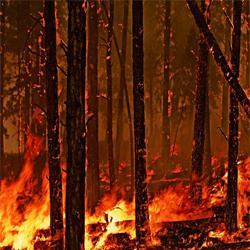fire: (4, 177, 47, 243), (148, 190, 208, 219), (94, 201, 128, 236)
